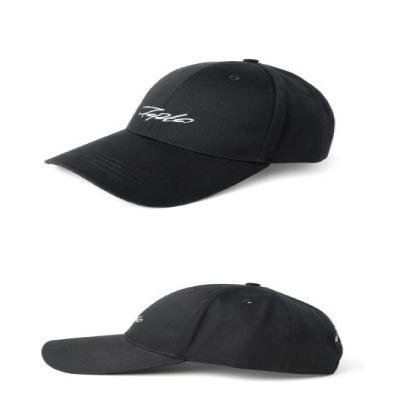cap: (28, 54, 354, 214), (24, 276, 355, 390)
